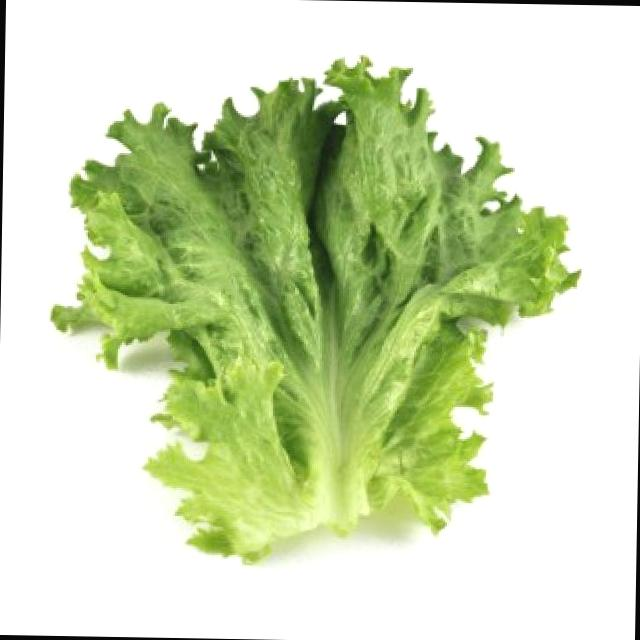Lettuce-Ready-to-Harvest: (53, 58, 577, 560)
